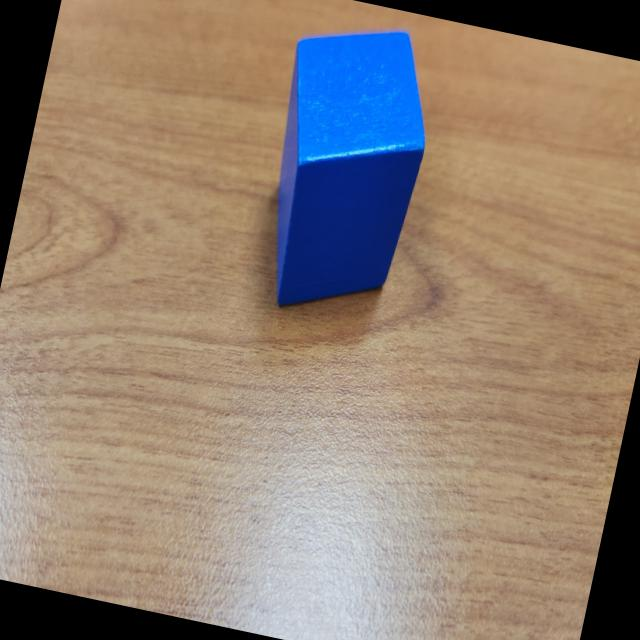blue: (242, 10, 448, 330)
